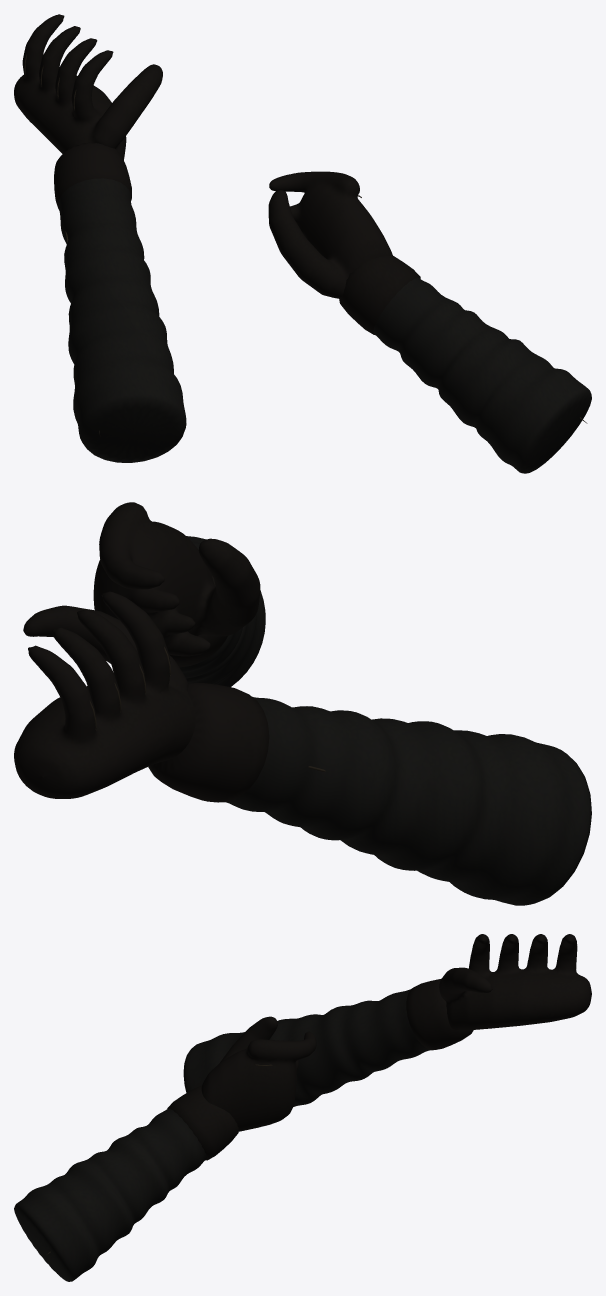
The model's file is warden-hands.glb.
The picture shows the model from 3 angles, top to bottom: view 1: azimuth 30°, elevation 25°; view 2: azimuth 150°, elevation 25°; view 3: azimuth 270°, elevation 25°; orthographic projection. The views are drawn at different scales.
Parts seen in each view (by area): view 1: Tailored folded sleeve.001, Tailored folded sleeve, support_hand Warden cracked leather, trigger_hand Warden cracked leather; view 2: Tailored folded sleeve.001, support_hand Warden cracked leather, trigger_hand Warden cracked leather, Tailored folded sleeve; view 3: Tailored folded sleeve, support_hand Warden cracked leather, Tailored folded sleeve.001, trigger_hand Warden cracked leather.
Part boxes in pixels (<box>): Tailored folded sleeve.001: <box>58,178,186,462</box>; Tailored folded sleeve: <box>373,277,591,473</box>; support_hand Warden cracked leather: <box>14,14,162,209</box>; trigger_hand Warden cracked leather: <box>268,171,420,334</box>; Tailored folded sleeve.001: <box>224,697,591,905</box>; support_hand Warden cracked leather: <box>14,591,269,802</box>; trigger_hand Warden cracked leather: <box>93,502,260,666</box>; Tailored folded sleeve: <box>179,536,265,687</box>; Tailored folded sleeve: <box>14,1108,206,1281</box>; support_hand Warden cracked leather: <box>406,934,591,1050</box>; Tailored folded sleeve.001: <box>183,989,430,1106</box>; trigger_hand Warden cracked leather: <box>167,1016,316,1160</box>.
Bounding box in the file's own units: 0.6846 × 0.4622 × 0.9352.
3 materials, 3 textured.
